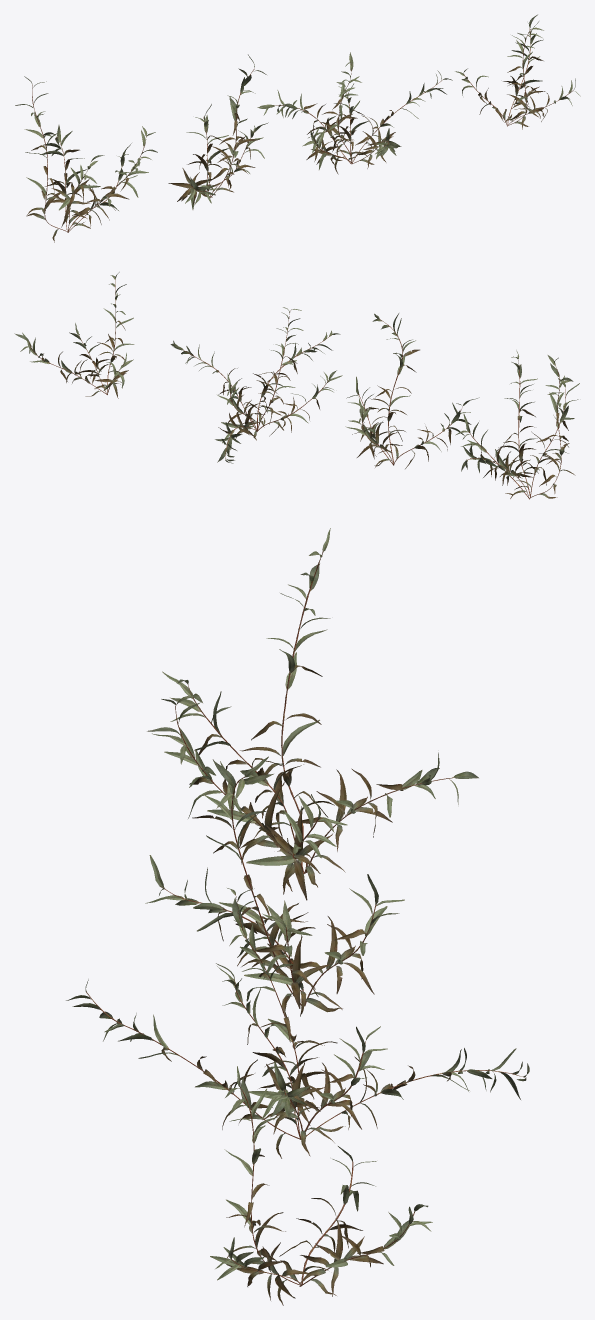
The model's file is shrub_02.glb.
3 views of the same model, one above another, from view 1: azimuth 30°, elevation 25°; view 2: azimuth 150°, elevation 25°; view 3: azimuth 270°, elevation 25° (orthographic). The views are drawn at different scales.
Visible parts, largest first — view 1: shrub_02_a; view 2: shrub_02_a; view 3: shrub_02_a.
Boxes of the visible parts, x1=… form: shrub_02_a: x1=15, y1=14, x2=580, y2=242; shrub_02_a: x1=14, y1=272, x2=579, y2=499; shrub_02_a: x1=66, y1=528, x2=529, y2=1305.
Bounding box in the file's own units: 6.05 × 1.7 × 2.29.
1 material, 1 textured.
